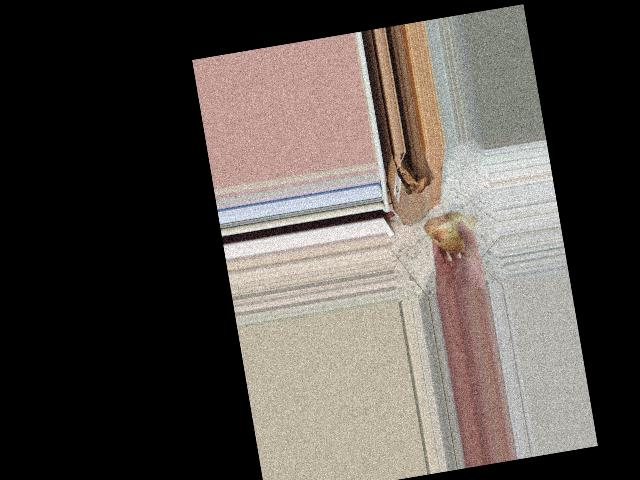onion: (421, 202, 479, 262)
